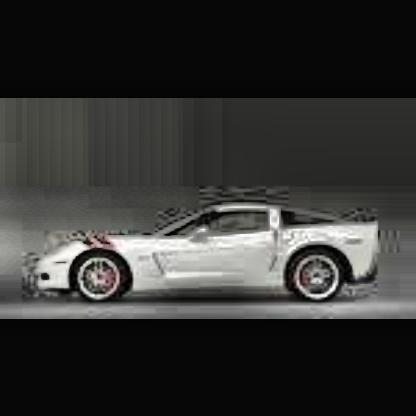Chevrolet Corvette Ron Fellows Edition Z06 2007: (34, 192, 386, 314)
